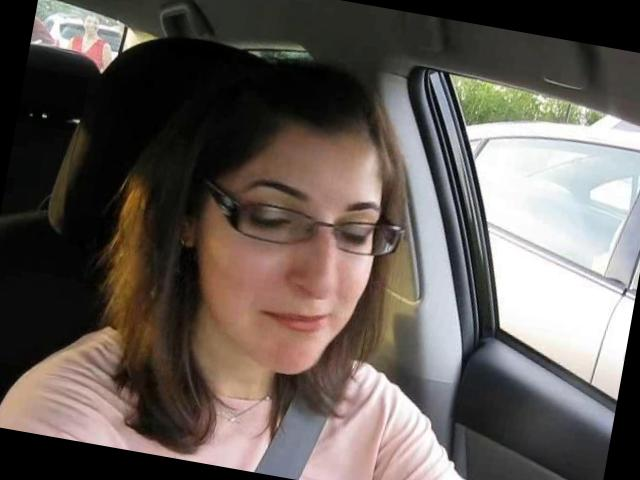eye_closed: (238, 198, 300, 244), (332, 222, 375, 255)
face: (177, 144, 390, 388)
